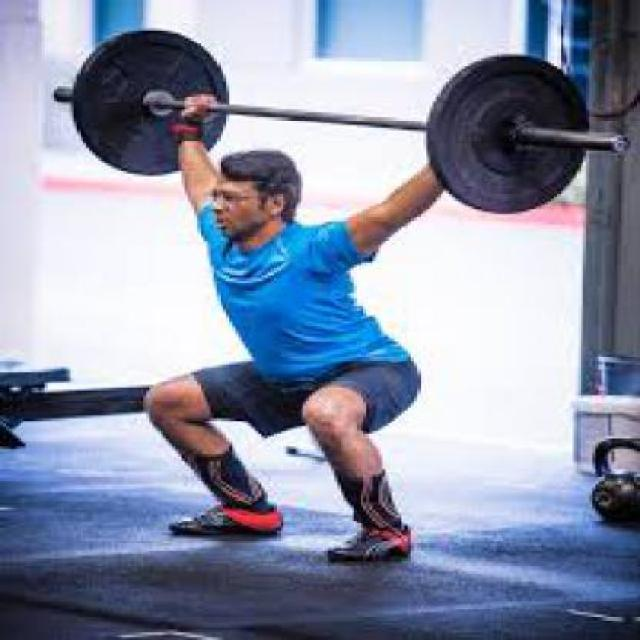barbell: (414, 51, 600, 220)
